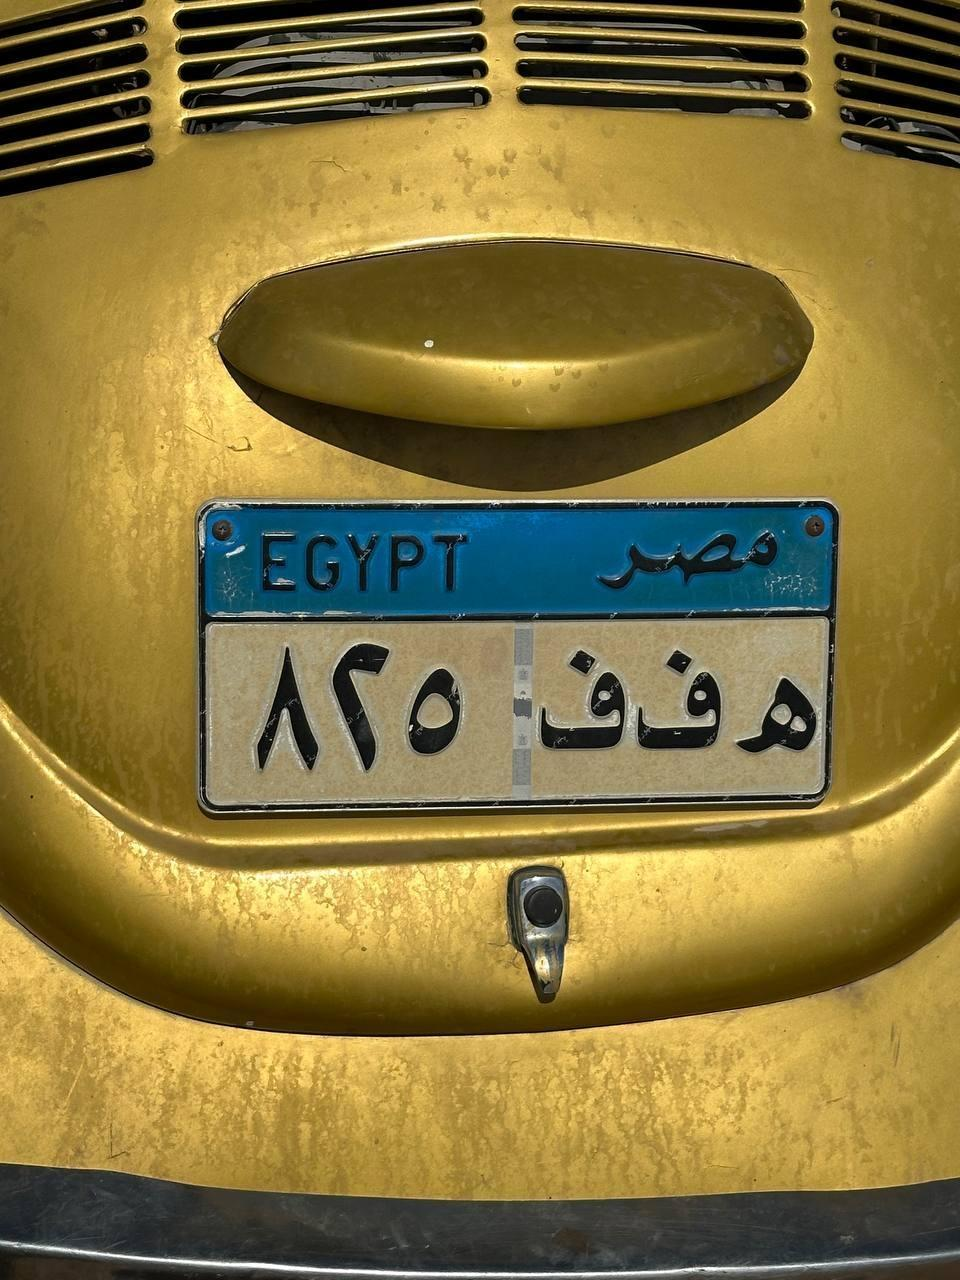2: (328, 625, 403, 783)
5: (405, 665, 468, 755)
8: (245, 636, 326, 780)
F: (631, 628, 728, 753), (537, 632, 630, 752)
Heeh: (730, 659, 824, 772)
License Plate: (198, 480, 837, 803)
